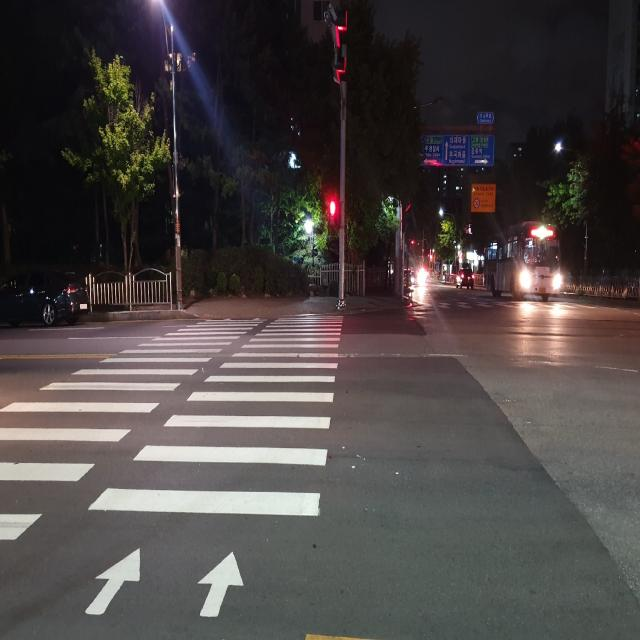빨간불: (330, 200, 337, 232)
횡단보도: (0, 312, 344, 620)
